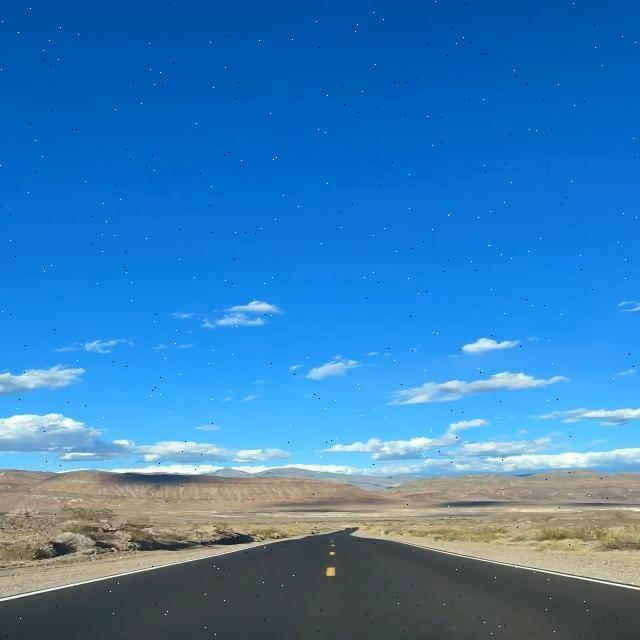lane: (325, 566, 336, 576)
road: (0, 528, 639, 639)
